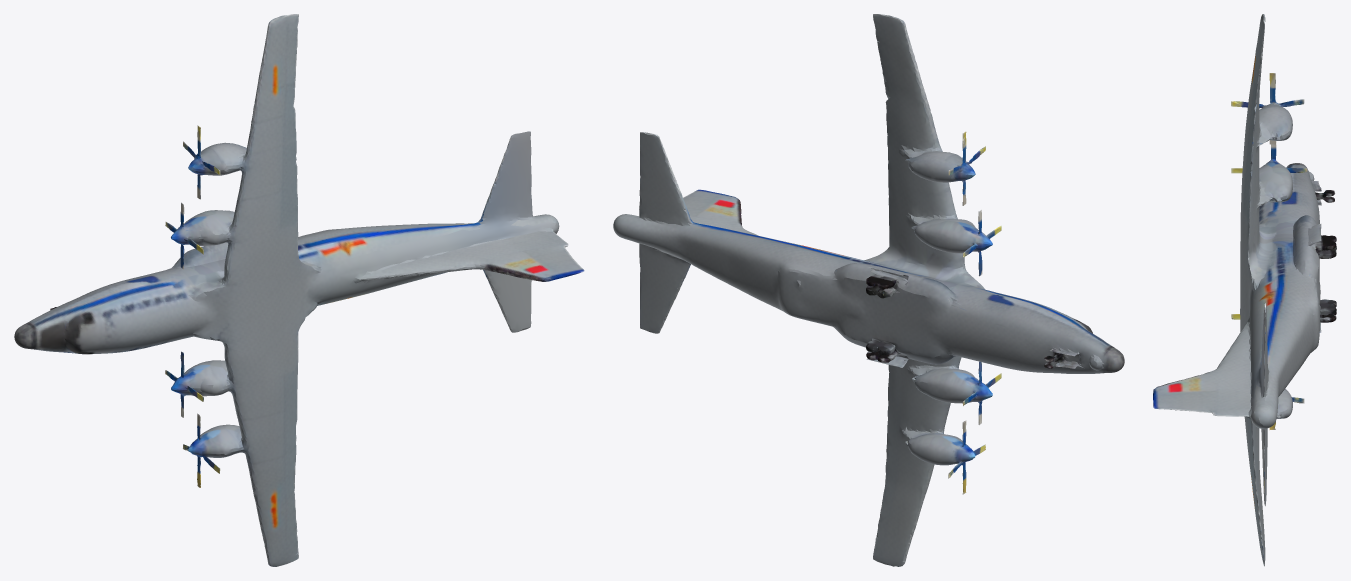
The model's file is Y-9G_Electronic_Warfare_Aircraft_AI_Rodin.glb.
The picture shows the model from 3 angles, left to right: view 1: azimuth 30°, elevation 25°; view 2: azimuth 150°, elevation 25°; view 3: azimuth 270°, elevation 25°; orthographic projection.
Parts seen in each view (by area): view 1: Y-9G_Electronic_Warfare_Aircraft; view 2: Y-9G_Electronic_Warfare_Aircraft; view 3: Y-9G_Electronic_Warfare_Aircraft.
Boxes of the visible parts, box(x1,y1,x2,y2) form: Y-9G_Electronic_Warfare_Aircraft: box(14, 14, 584, 566); Y-9G_Electronic_Warfare_Aircraft: box(613, 14, 1124, 566); Y-9G_Electronic_Warfare_Aircraft: box(1153, 14, 1336, 566).
Size of the model in its own units: 1.9 by 1.9 by 0.5822.
1 material, 1 textured.
